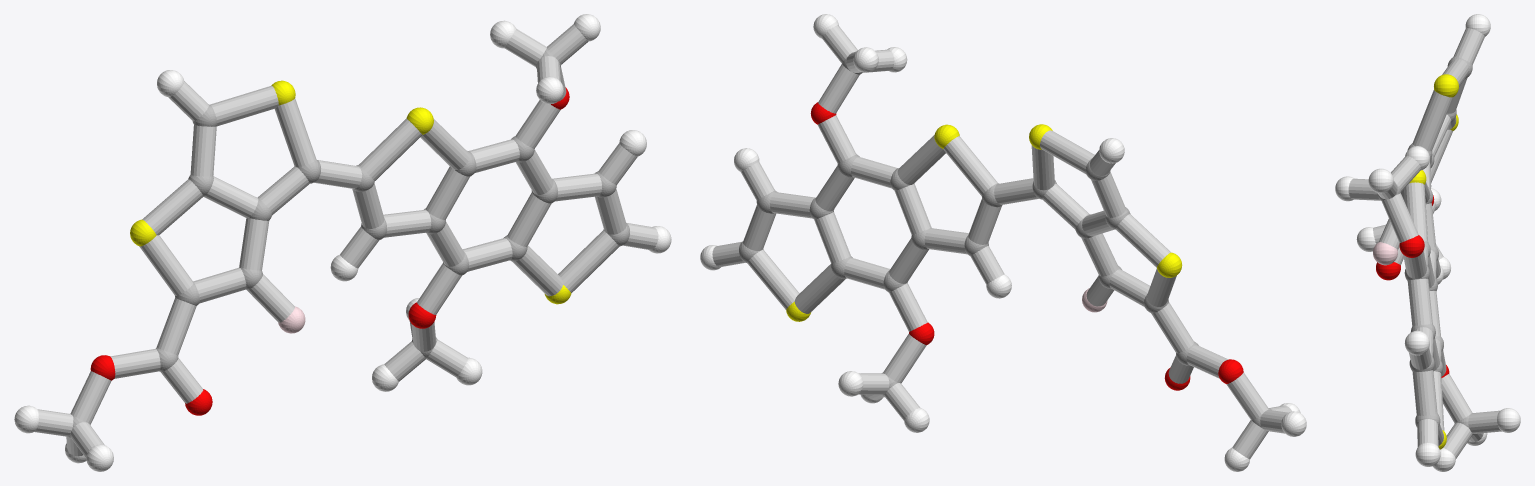
The model's file is color.glb.
The picture shows the model from 3 angles, left to right: view 1: azimuth 30°, elevation 25°; view 2: azimuth 150°, elevation 25°; view 3: azimuth 270°, elevation 25°; orthographic projection. The views are drawn at different scales.
Parts seen in each view (by area): view 1: grp15205, grp8689, grp1, grp7241, grp13395; view 2: grp15205, grp8689, grp1, grp7241, grp13395; view 3: grp15205, grp8689, grp1, grp13395, grp7241, grp14843.
Part boxes in pixels (box(x1,y1,x2,y2)): grp15205: box(35, 24, 658, 458); grp8689: box(14, 14, 671, 471); grp1: box(68, 48, 629, 439); grp7241: box(130, 80, 571, 304); grp13395: box(90, 87, 569, 415); grp15205: box(712, 25, 1292, 459); grp8689: box(700, 14, 1306, 471); grp1: box(739, 51, 1271, 431); grp7241: box(786, 124, 1182, 321); grp13395: box(810, 102, 1243, 390); grp15205: box(1348, 28, 1501, 459); grp8689: box(1335, 14, 1520, 471); grp1: box(1377, 56, 1474, 435); grp13395: box(1376, 195, 1449, 377); grp7241: box(1409, 74, 1458, 449); grp14843: box(1373, 242, 1397, 265).
Bounding box in the file's own units: 16.29 × 8.97 × 4.42.
